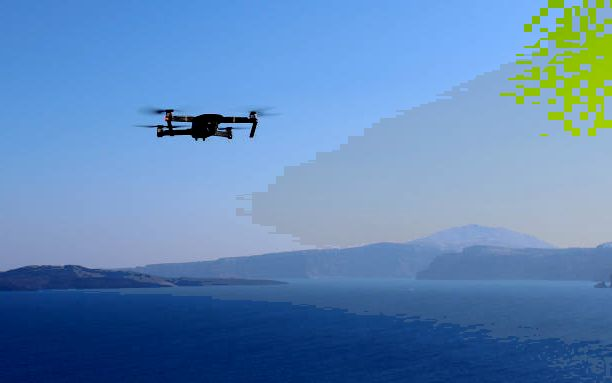Drone: (132, 101, 278, 146)
